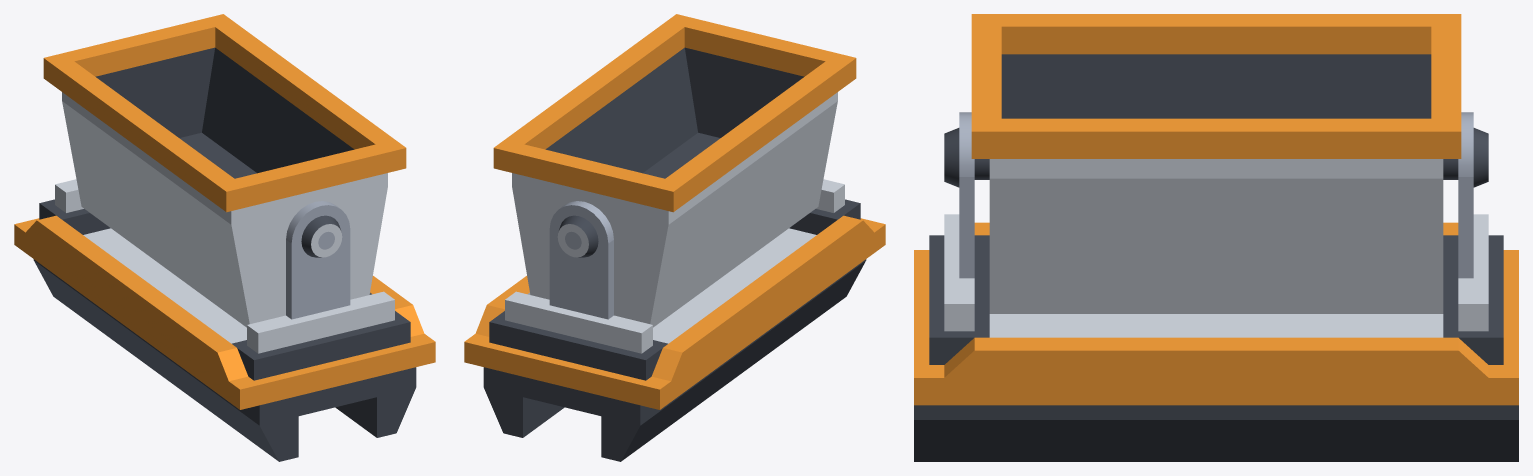
File: monorail_trainCargo.glb
3 views of the same model, side by side, from view 1: azimuth 30°, elevation 25°; view 2: azimuth 150°, elevation 25°; view 3: azimuth 270°, elevation 25° (orthographic). The views are drawn at different scales.
Visible parts, largest first — view 1: load, monorail_trainCargo; view 2: load, monorail_trainCargo; view 3: load, monorail_trainCargo.
Part boxes in pixels (x1,y1,x2,y2): load: (43, 14, 406, 327); monorail_trainCargo: (14, 179, 435, 461); load: (493, 14, 856, 327); monorail_trainCargo: (464, 179, 885, 461); load: (971, 14, 1461, 313); monorail_trainCargo: (914, 112, 1518, 461).
Bounding box in the file's own units: 0.5 × 0.64 × 1.
